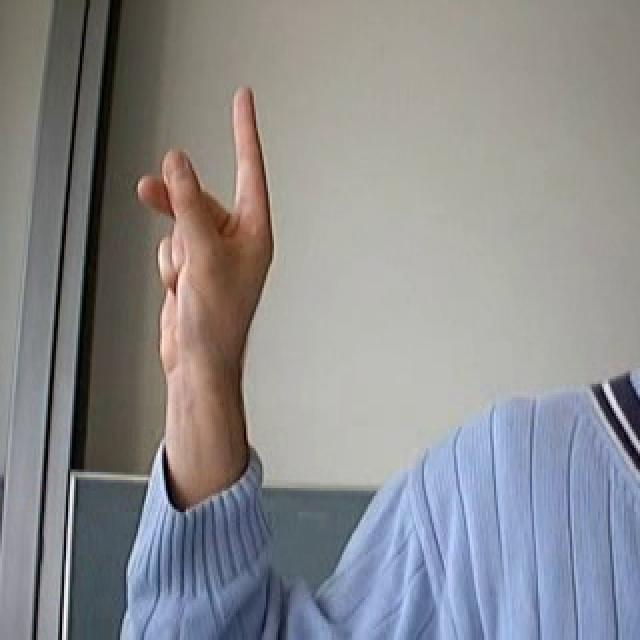K: (131, 74, 284, 394)
